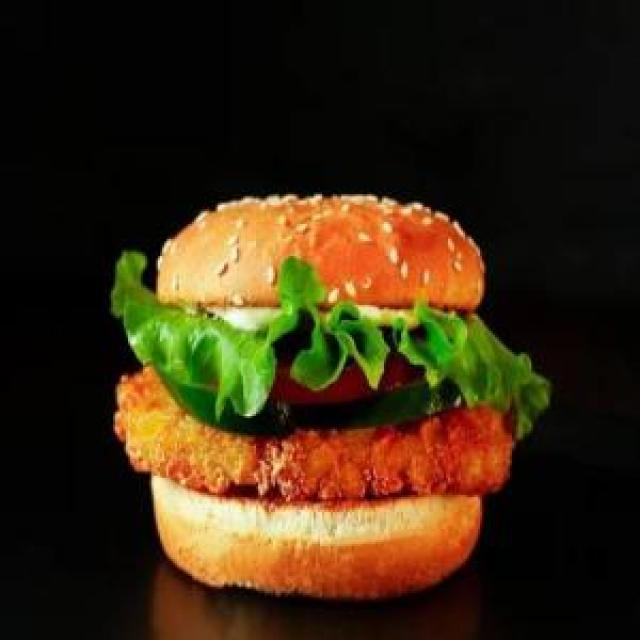Burger: (109, 191, 550, 603)
